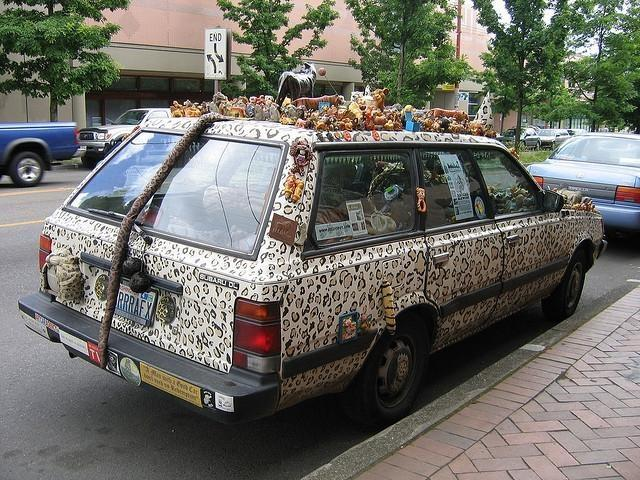car: (20, 59, 610, 422), (527, 131, 640, 254), (495, 127, 541, 151), (537, 129, 570, 152)
truck: (78, 108, 172, 167), (0, 120, 80, 188)
